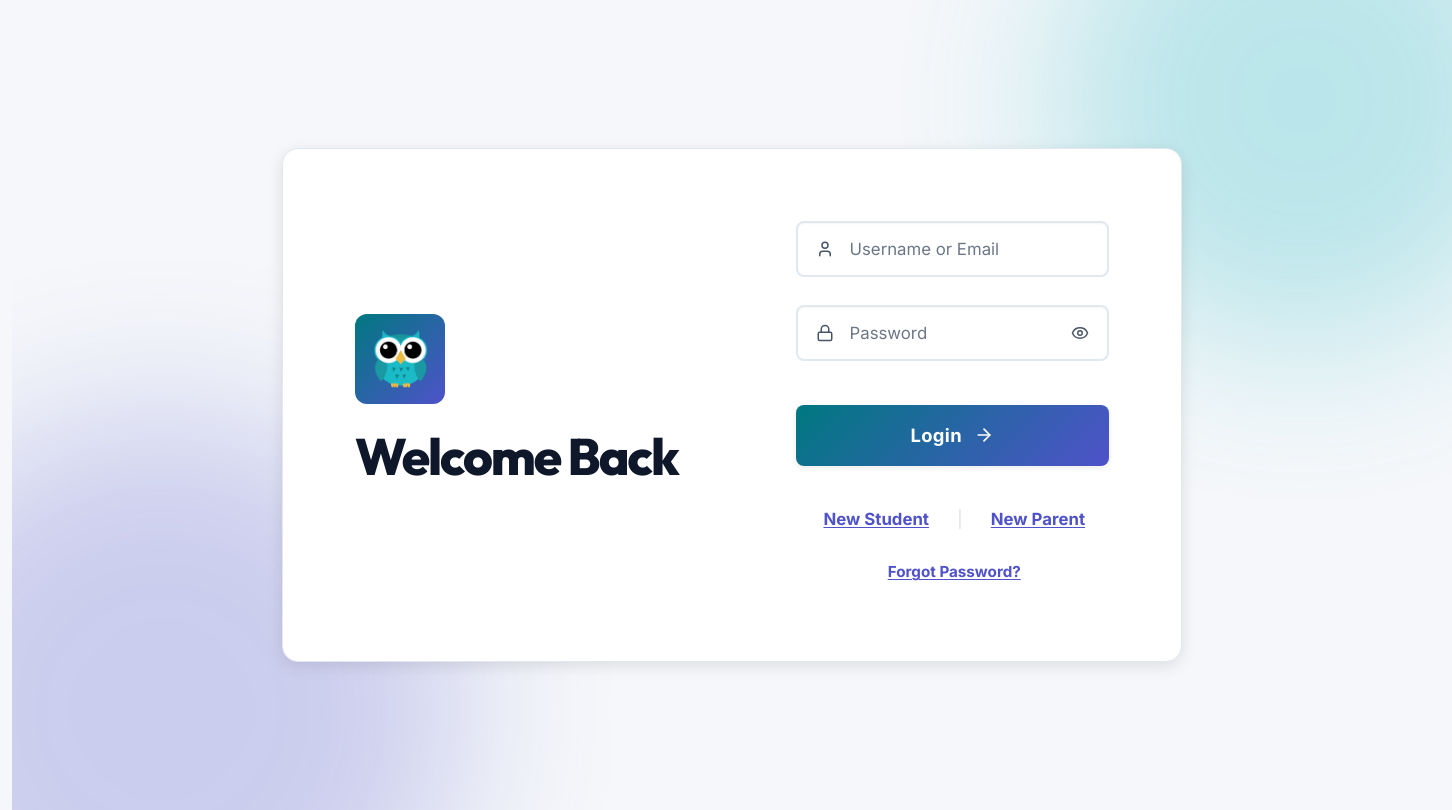
Test: Login Component › where the user is sent › prefers the page the user was bounced from over their home page
Type "testuser" into the field with placeholder "Username or Email" at (952, 249), box [796, 221, 1109, 277]
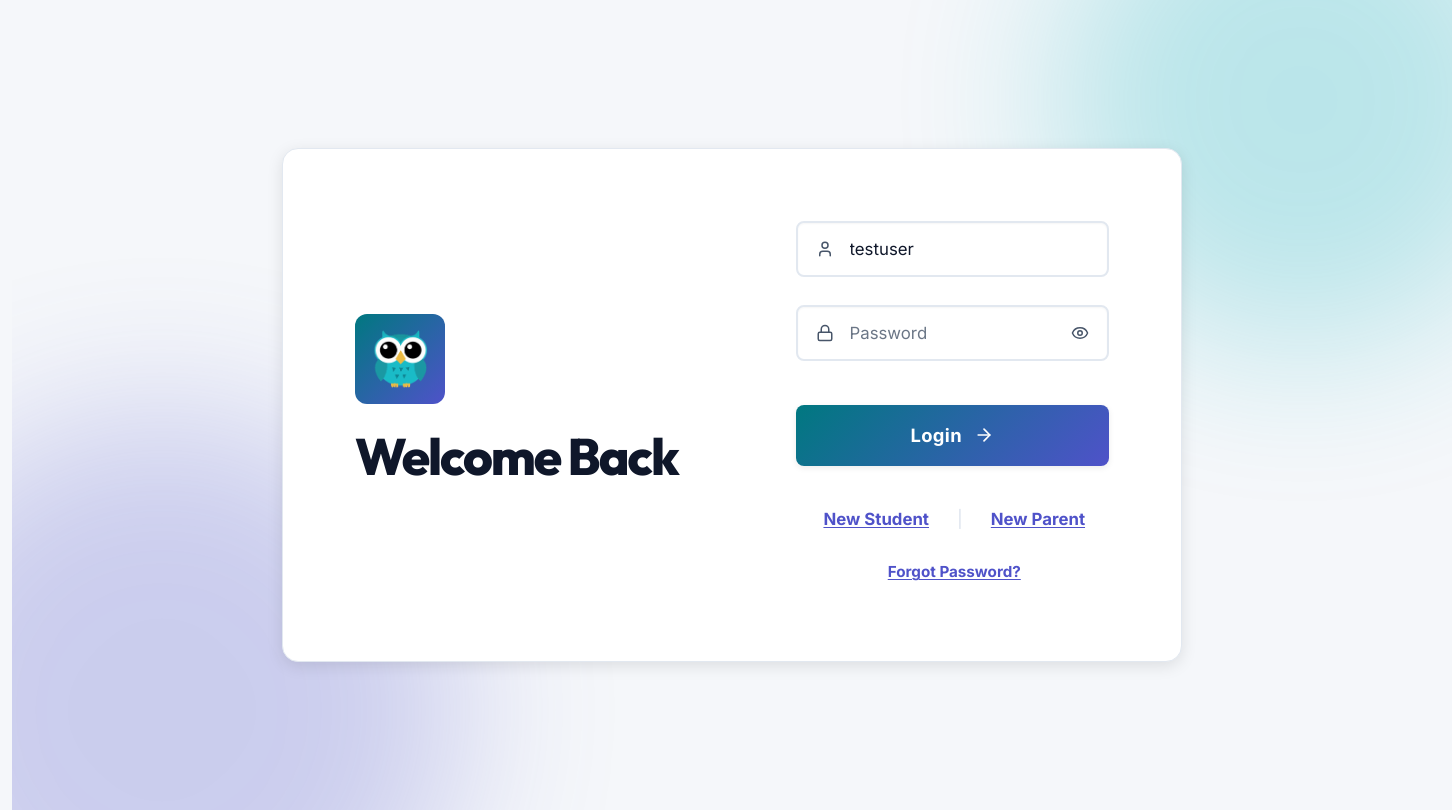
Type "password123" into the password field with placeholder "Password" at (952, 333), box [796, 305, 1109, 361]
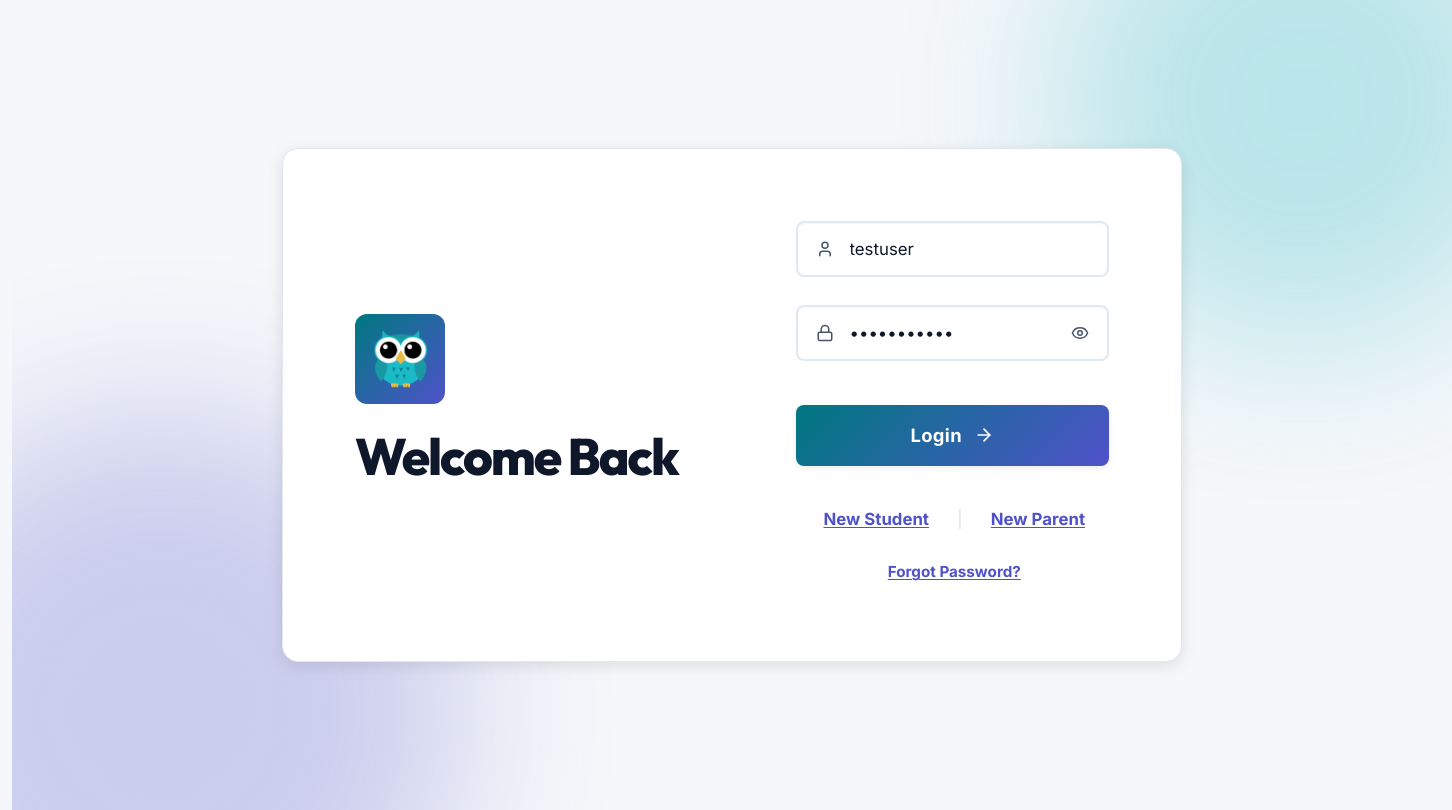
Click the button "Login" at (952, 435), box [796, 405, 1109, 466]
(page scrolled)
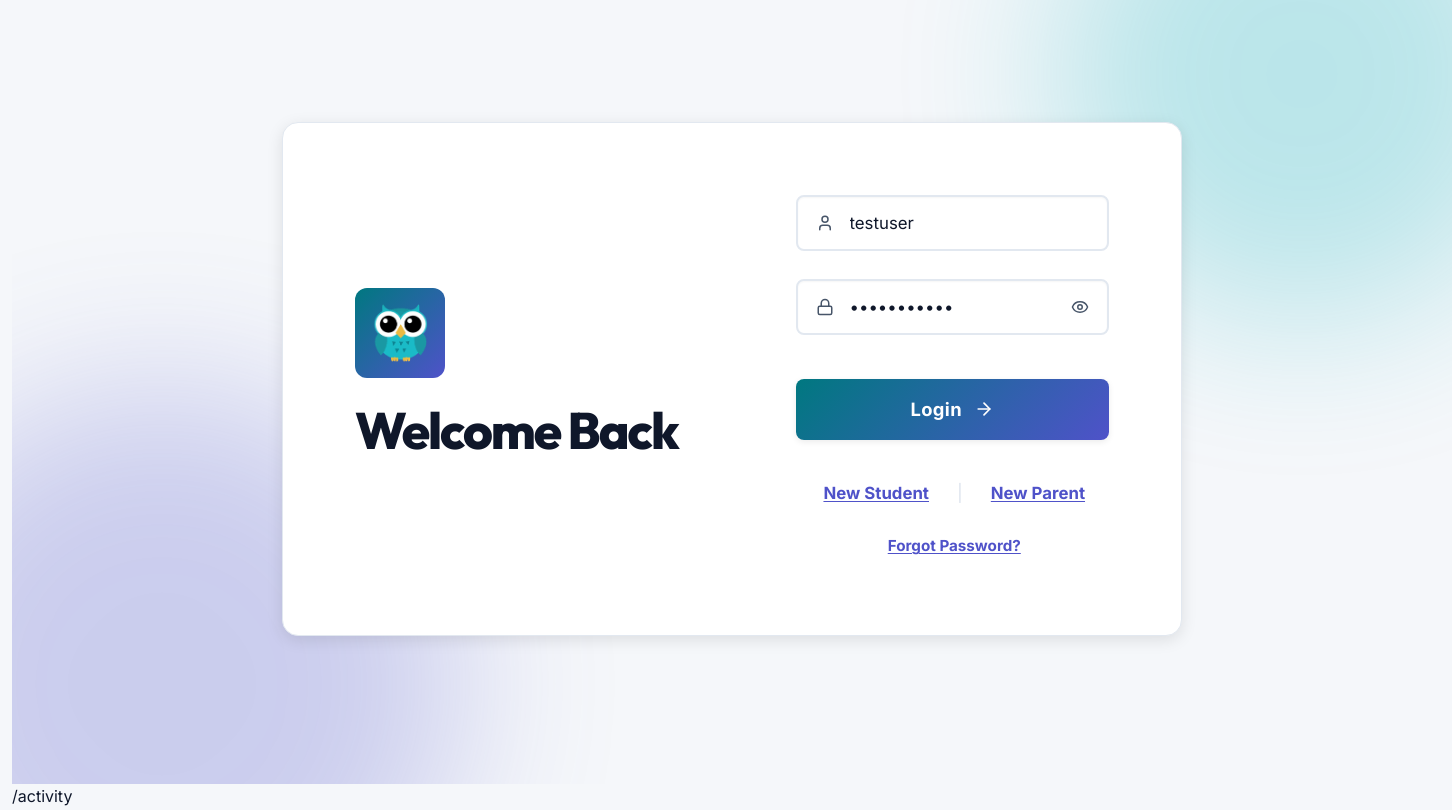
Result: the text with test id "where" reads "/activity" at [12, 786, 72, 806]
